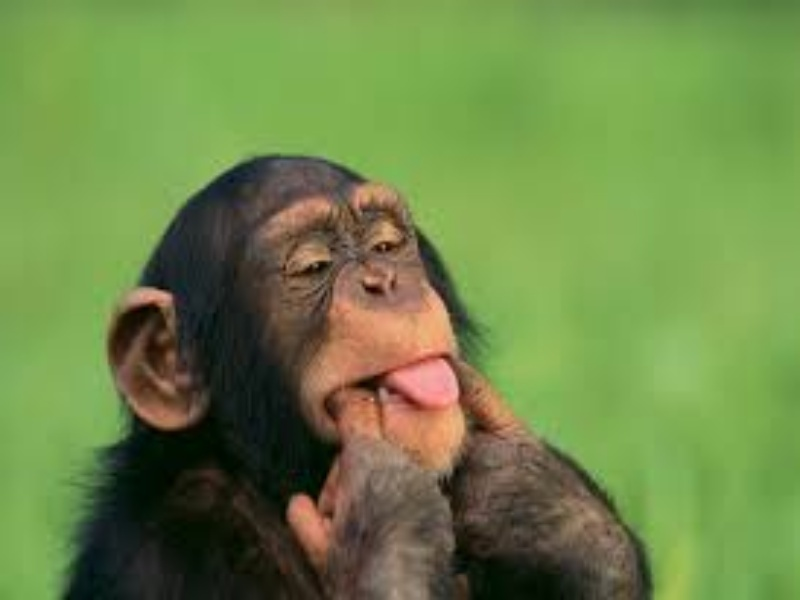monkey: (52, 149, 683, 578)
